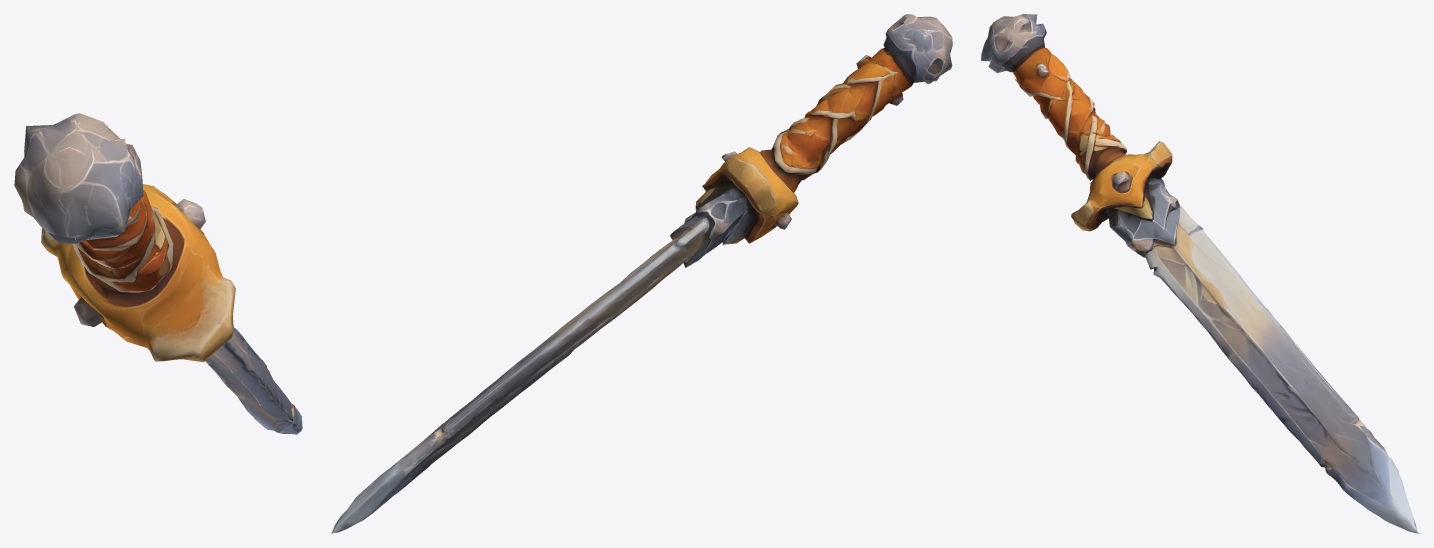
The model's file is weapon_shortsword_model.glb.
3 renders of one model, left to right at view 1: azimuth 30°, elevation 25°; view 2: azimuth 150°, elevation 25°; view 3: azimuth 270°, elevation 25°, orthographic. The views are drawn at different scales.
Visible parts, largest first — view 1: tripo_node_cc3dda2e-faa5-46d7-8e4a-9f79a65d252c; view 2: tripo_node_cc3dda2e-faa5-46d7-8e4a-9f79a65d252c; view 3: tripo_node_cc3dda2e-faa5-46d7-8e4a-9f79a65d252c.
Part boxes in pixels (x1,y1,x2,y2): tripo_node_cc3dda2e-faa5-46d7-8e4a-9f79a65d252c: (14, 113, 302, 434); tripo_node_cc3dda2e-faa5-46d7-8e4a-9f79a65d252c: (331, 14, 952, 533); tripo_node_cc3dda2e-faa5-46d7-8e4a-9f79a65d252c: (981, 14, 1419, 533).
Size of the model in its own units: 0.8694 by 0.9382 by 1.
Materials: 1 (1 with a texture image).
